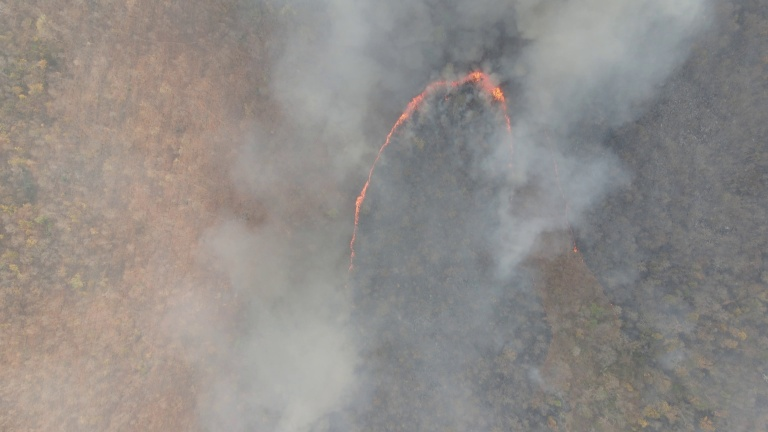fire: (346, 66, 520, 302), (567, 242, 582, 260)
smoke: (206, 1, 420, 418), (490, 1, 699, 280)
